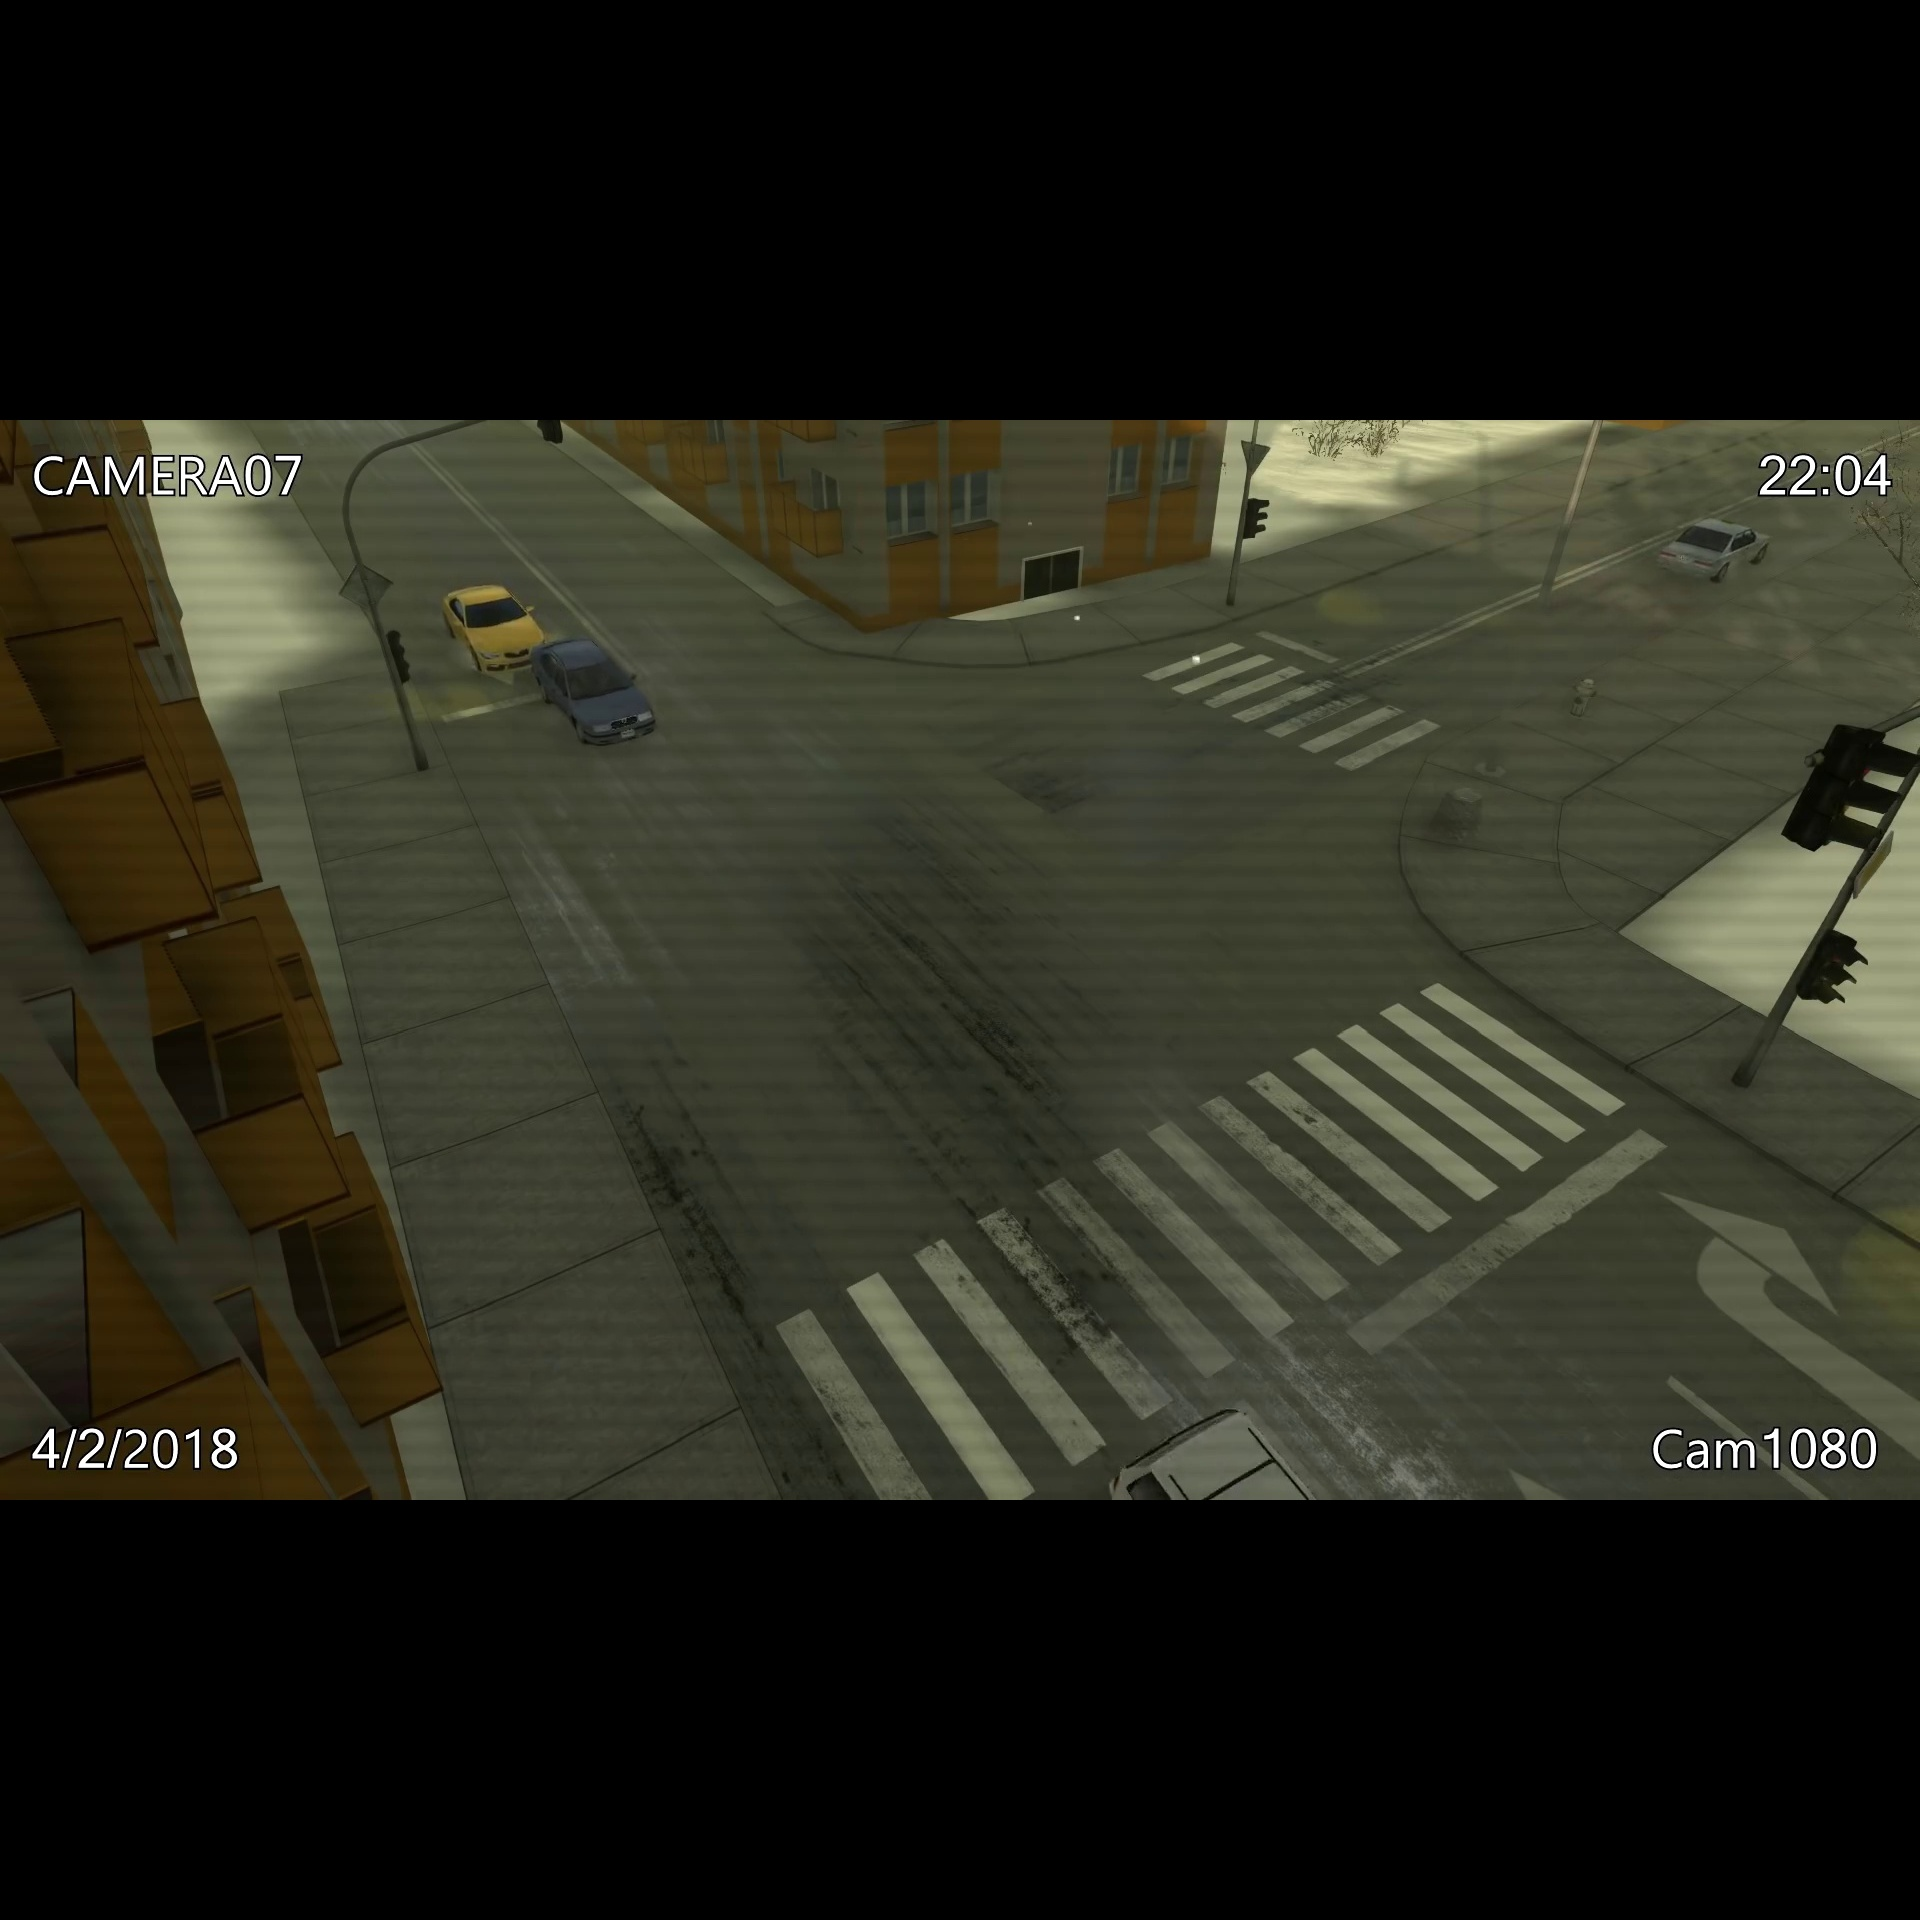vehicle: (538, 635, 672, 753), (434, 571, 547, 679), (1655, 513, 1776, 587), (1060, 1306, 1064, 1308)
